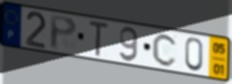0: (184, 37, 205, 73)
2: (25, 11, 47, 51)
9: (119, 25, 139, 63)
C: (151, 32, 179, 68)
P: (49, 14, 79, 52)
T: (87, 19, 110, 58)
